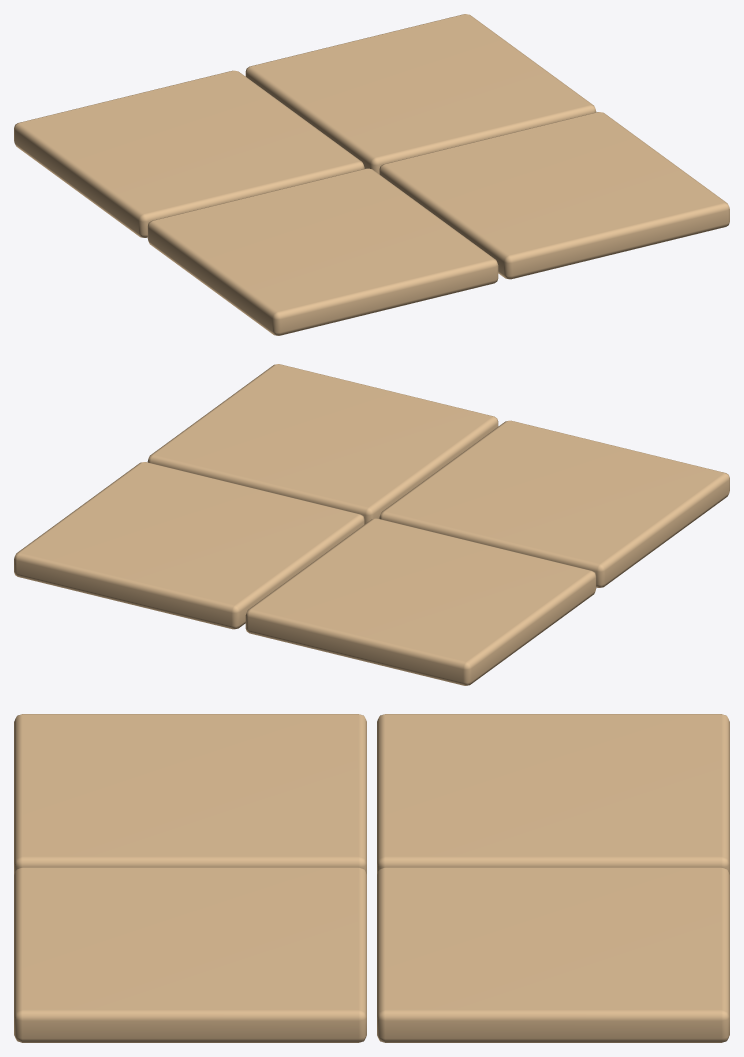
File: Path_Segment_6.glb
3 renders of one model, top to bottom at view 1: azimuth 30°, elevation 25°; view 2: azimuth 150°, elevation 25°; view 3: azimuth 270°, elevation 25°, orthographic. The views are drawn at different scales.
Visible parts, largest first — view 1: Path_Segment_6__Paving; view 2: Path_Segment_6__Paving; view 3: Path_Segment_6__Paving.
Boxes of the visible parts, left/top/right/bottom form: Path_Segment_6__Paving: left=14, top=14, right=729, bottom=335; Path_Segment_6__Paving: left=14, top=364, right=729, bottom=685; Path_Segment_6__Paving: left=14, top=714, right=729, bottom=1042.
Bounding box in the file's own units: 5.92 × 0.3 × 5.92.
